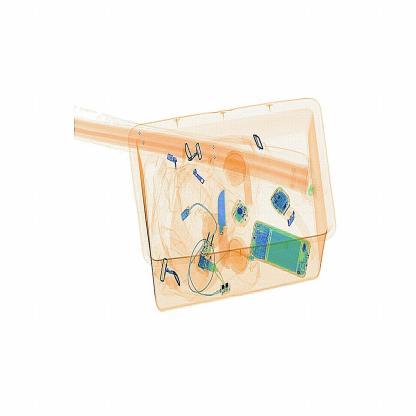wrench: (215, 186, 232, 263)
